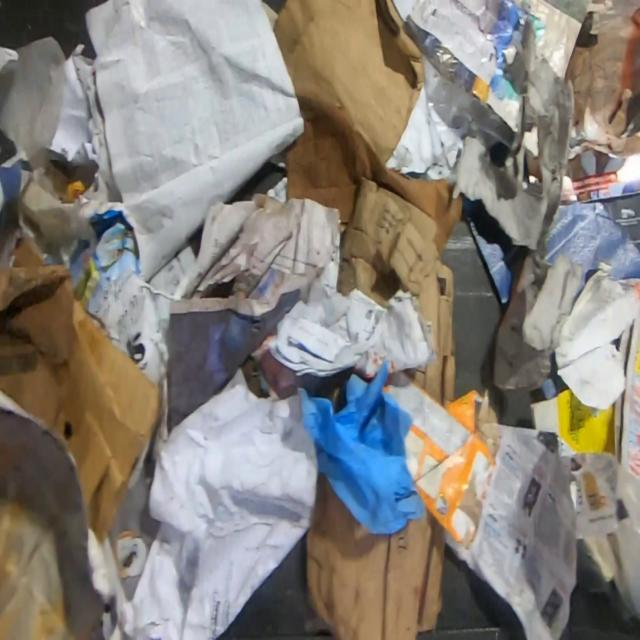cardboard: (0, 236, 166, 542), (275, 1, 462, 258), (337, 176, 456, 409), (304, 466, 444, 640), (384, 371, 502, 550), (533, 396, 602, 458)
